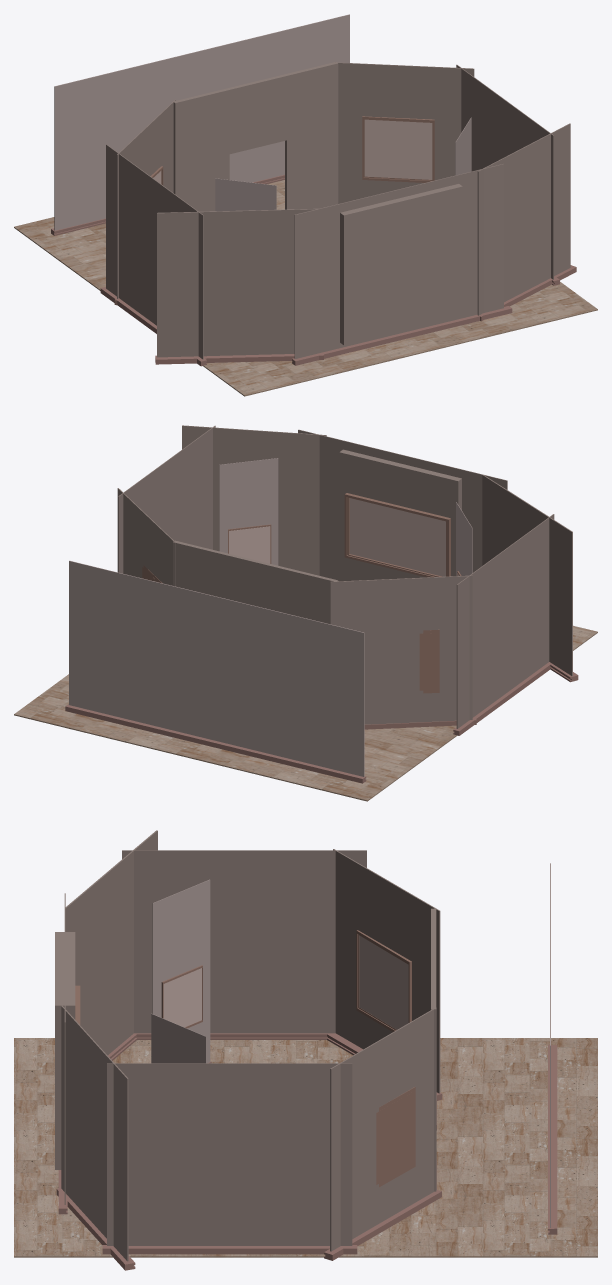
File: Interiors_WideRoom.glb
3 views of the same model, one above another, from view 1: azimuth 30°, elevation 25°; view 2: azimuth 150°, elevation 25°; view 3: azimuth 270°, elevation 25° (orthographic). The views are drawn at different scales.
Parts seen in each view (by area): view 1: Wall R.001, Wall F.009, Wall R, Wall F.004, Wall F.005, Floor, Wall F.003, Wall F.006, Wall F.011, Wall F, Wall F.016, Wall F.012 (+7 smaller); view 2: Wall R.001, Wall F.012, Wall F.011, Floor, Wall F.006, Wall R, Wall F.004, Wall F, Wall F.009, Wall F.005, Wall F.008, Wall F.002 (+8 smaller); view 3: Floor, Wall F, Wall F.011, Wall F.003, Wall F.012, Wall F.006, Wall F.009, Wall F.001, Wall F.019, Wall F.017, Wall F.004, Wall F.002 (+9 smaller).
Part boxes in pixels (box(x1,y1,x2,y2)): Wall R.001: box(54, 14, 349, 230); Wall F.009: box(157, 208, 318, 357); Wall R: box(173, 62, 338, 211); Wall F.004: box(340, 184, 462, 345); Wall F.005: box(294, 164, 503, 358); Floor: box(14, 180, 597, 396); Wall F.003: box(333, 62, 474, 203); Wall F.006: box(477, 123, 570, 315); Wall F.011: box(106, 144, 203, 359); Wall F: box(456, 64, 553, 279); Wall F.016: box(364, 119, 432, 179); Wall F.012: box(117, 99, 175, 298); Wall R.001: box(69, 560, 364, 776); Wall F.012: box(330, 575, 472, 724); Wall F.011: box(456, 514, 554, 728); Floor: box(14, 625, 597, 801); Wall F.006: box(182, 425, 326, 575); Wall R: box(173, 540, 338, 624); Wall F.004: box(339, 449, 461, 581); Wall F: box(118, 425, 215, 573); Wall F.009: box(482, 474, 572, 676); Wall F.005: box(298, 429, 507, 581); Wall F.008: box(349, 498, 445, 576); Wall F.002: box(219, 458, 278, 565); Floor: box(14, 1038, 597, 1257); Wall F: box(107, 1063, 352, 1245); Wall F.011: box(122, 850, 366, 1033); Wall F.003: box(330, 1007, 436, 1251); Wall F.012: box(333, 849, 440, 1093); Wall F.006: box(61, 1005, 128, 1261); Wall F.009: box(65, 830, 157, 1055); Wall F.001: box(152, 879, 210, 1063); Wall F.019: box(359, 935, 408, 1029); Wall F.017: box(376, 1087, 415, 1187); Wall F.004: box(55, 932, 75, 1169); Wall F.002: box(151, 1013, 206, 1063).
Bounding box in the file's own units: 61.38 × 21.38 × 59.67.
Materials: 7 (2 with a texture image).
